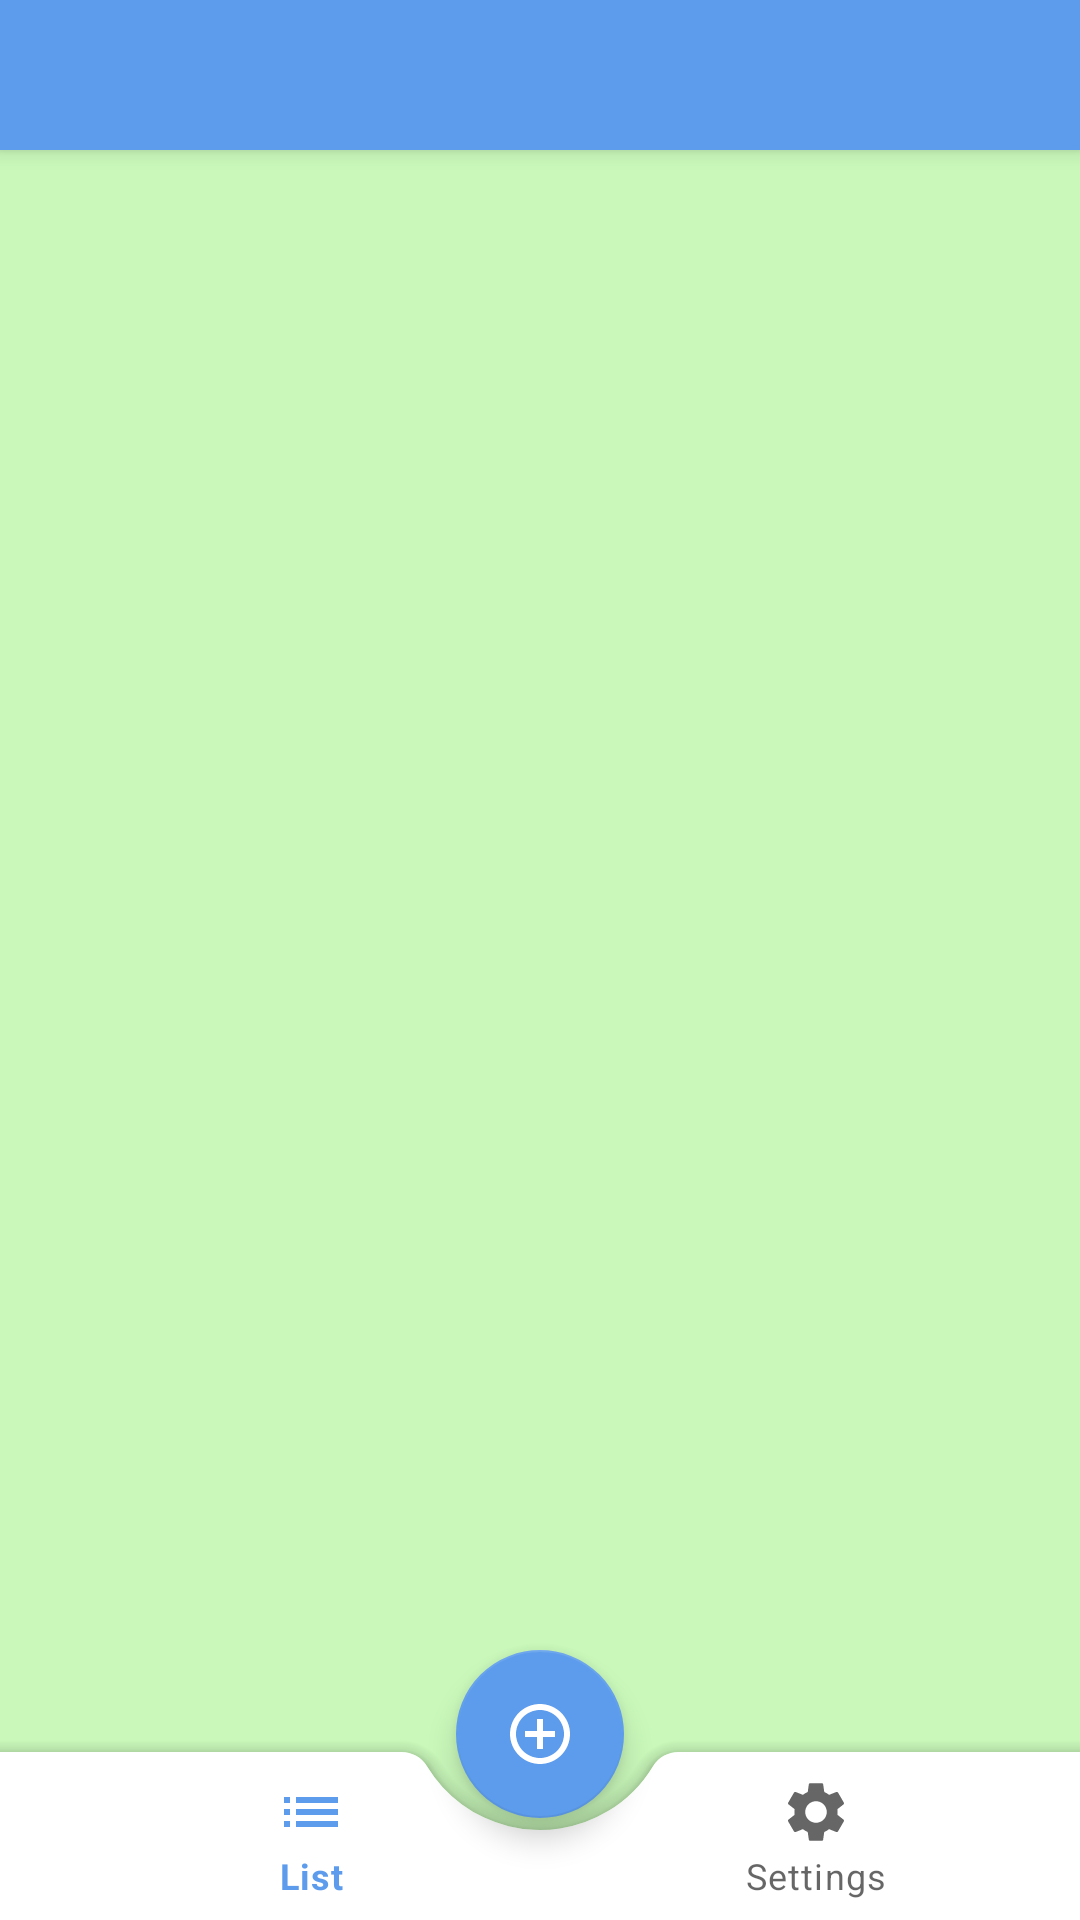

Icon click points for this 1080×1920 phone screenshot, format (x=x, y=y):
add circle: (x=540, y=1788)
